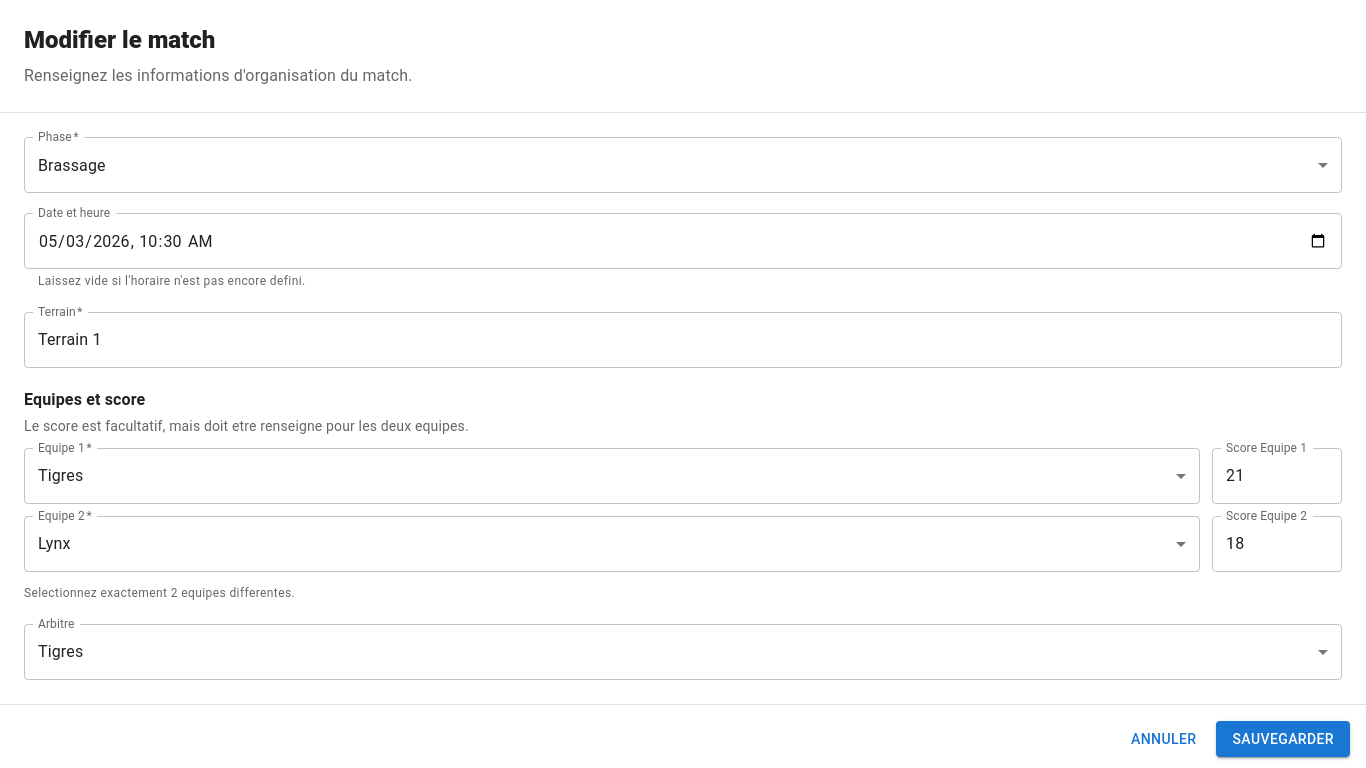
Test: ManageGameForm › should clear the previous team score when changing a contestant
The image size is (1366, 768).
Press the mouse on the dropdown named "Equipe 1" at (61,476), box [38,466,83,485]
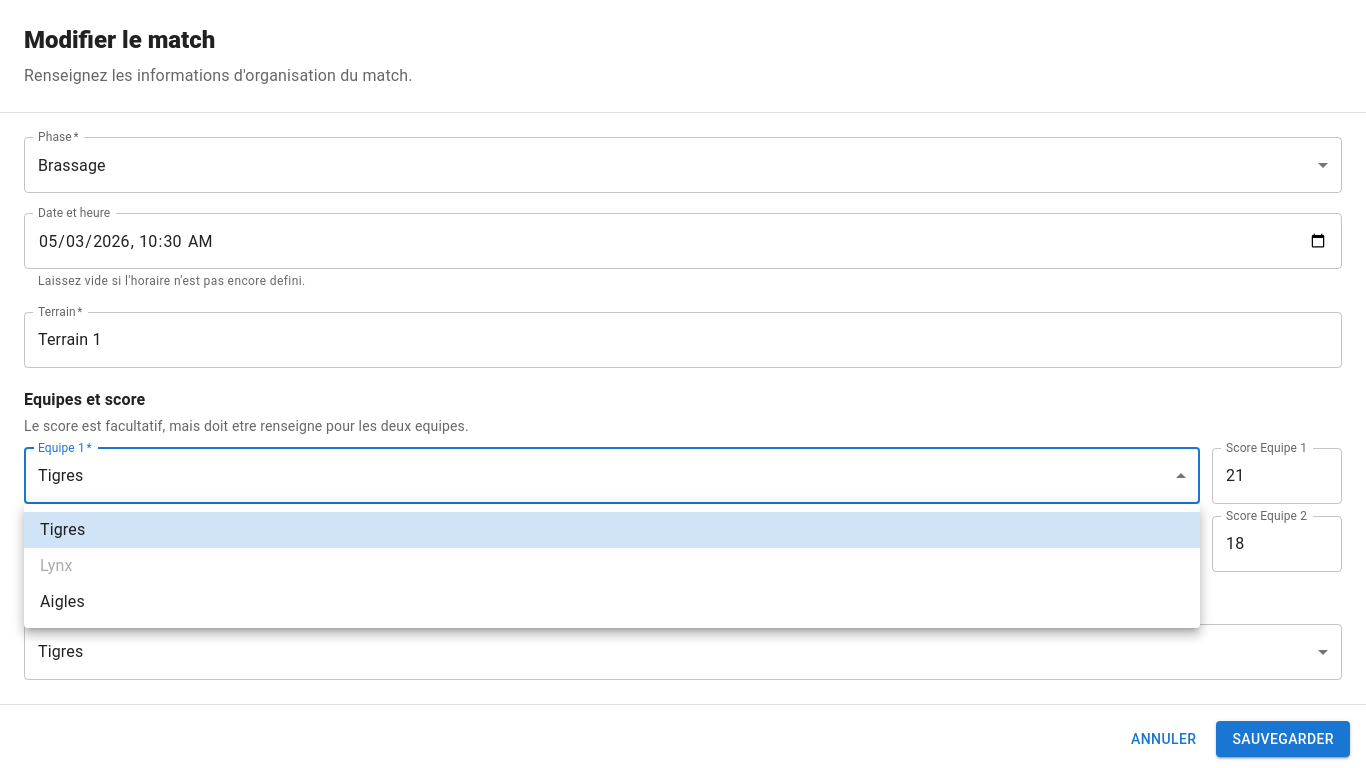
Click the option "Aigles".
click(62, 602)  # box [40,592,85,611]
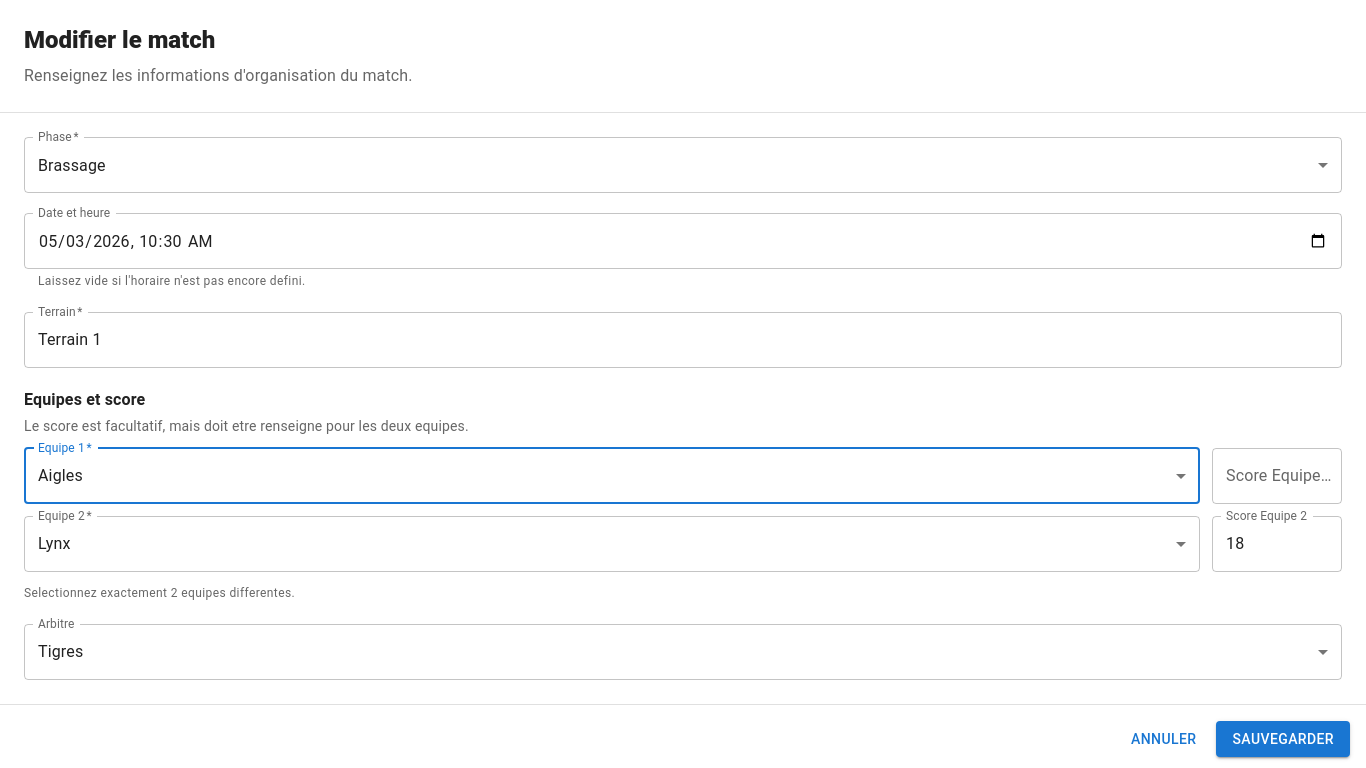
Expected: the number field labelled "Score Equipe 2" holds "18", [1212,516,1342,572]
Now the number field labelled "Score Equipe 1" is not empty, box [1212,448,1342,504]
